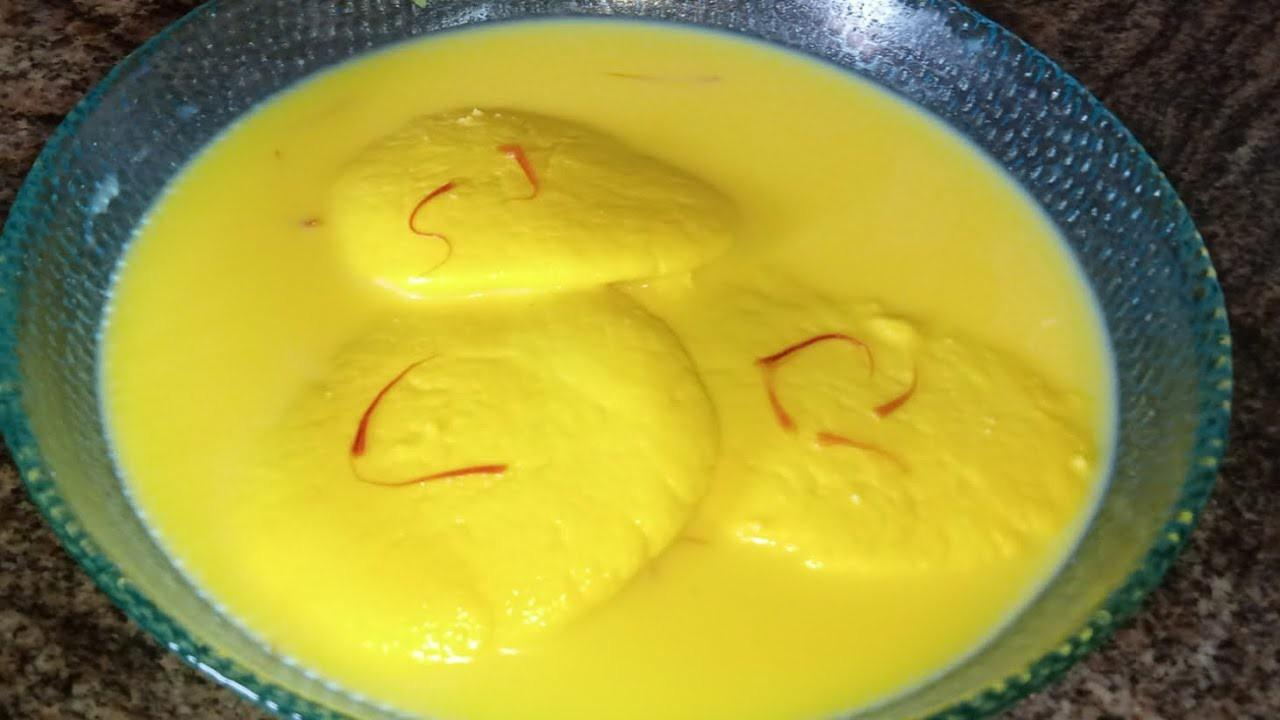RasMalai: (99, 7, 1121, 720)
